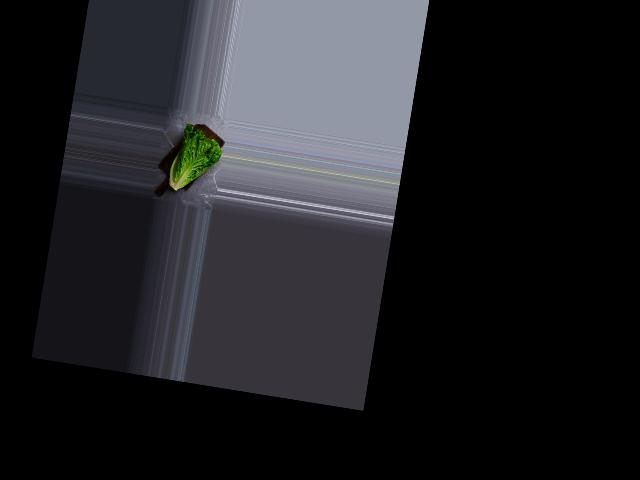lettuce: (159, 121, 224, 199)
